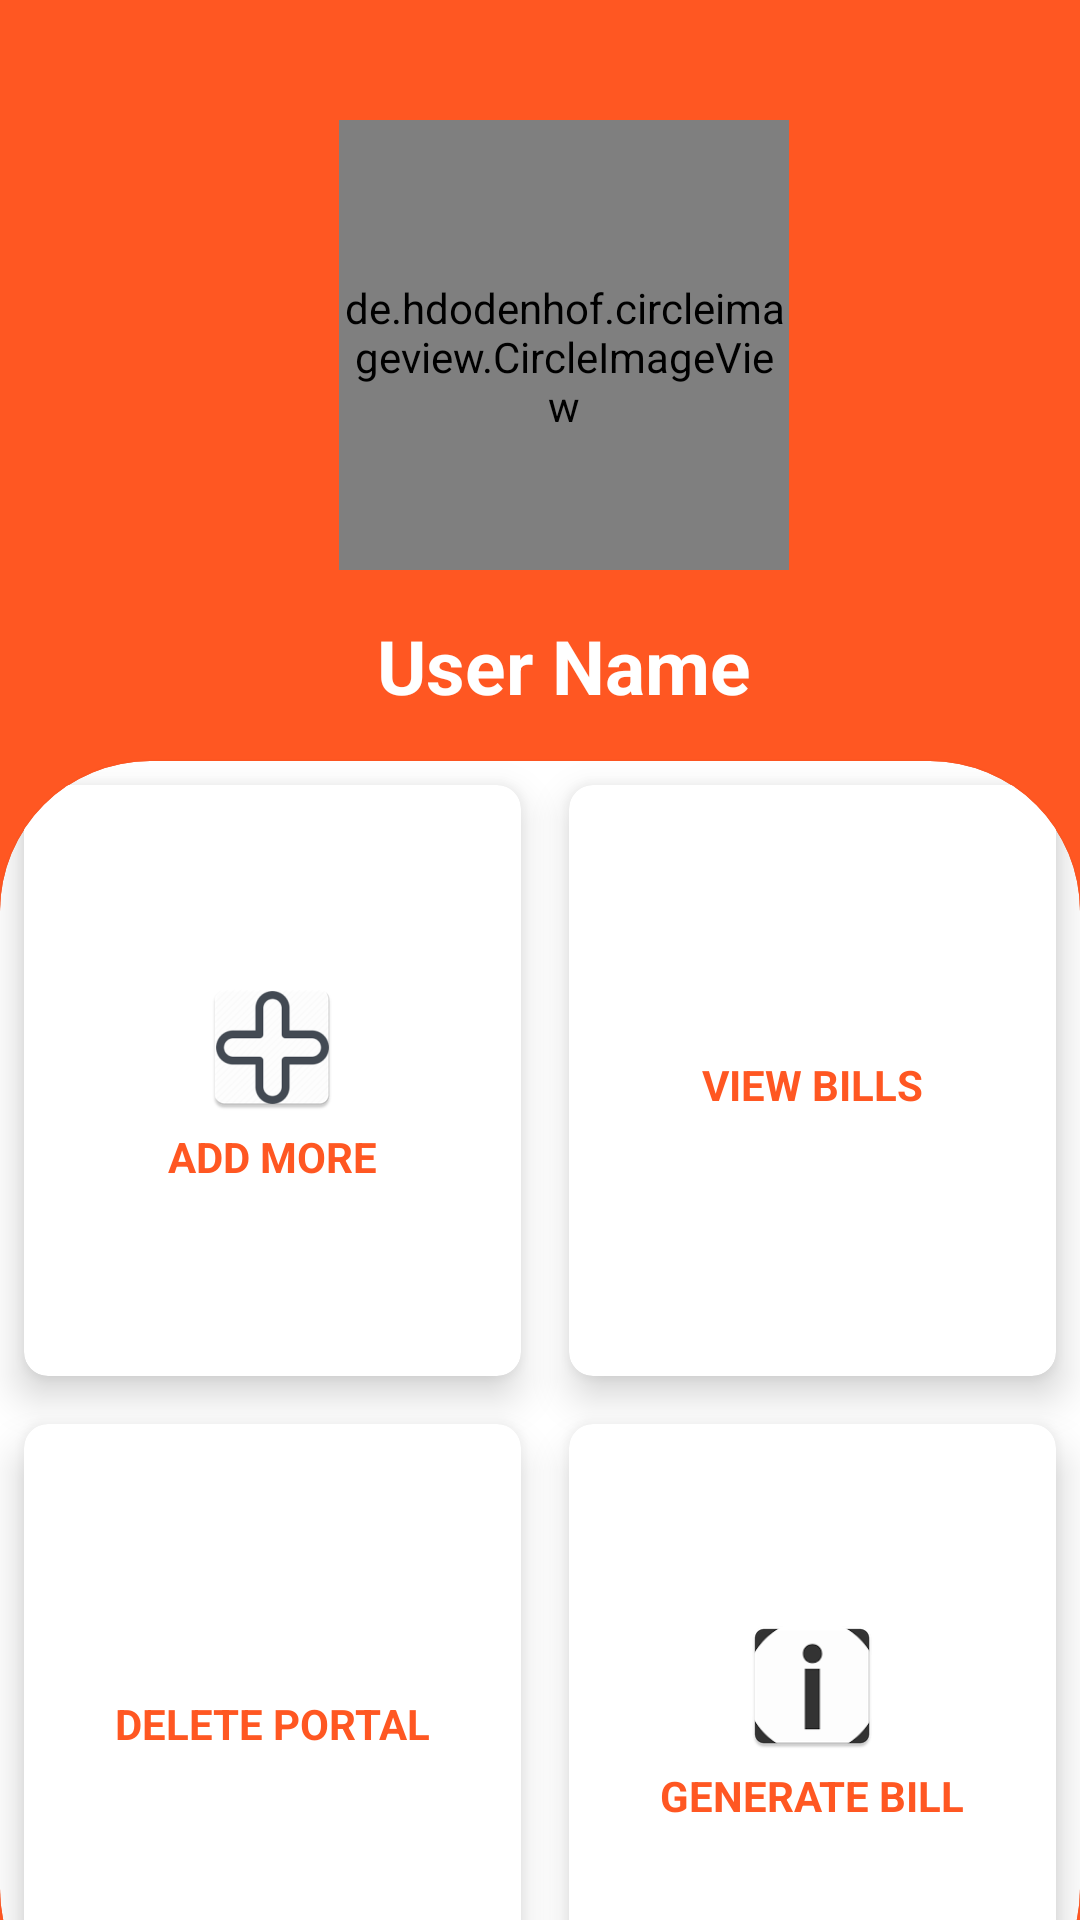

Icon bounding boxes for this 1080w x 1920h phone screenshot, format (x1, y1, x2, y2):
info: (754, 1628, 870, 1747)
